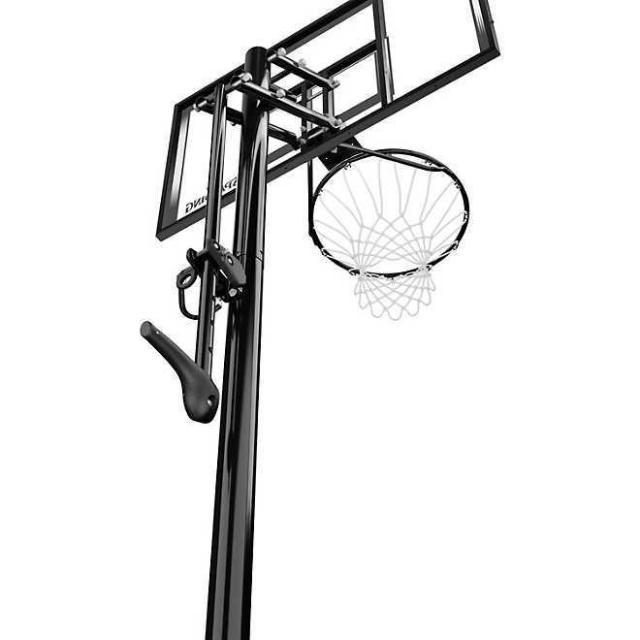hoop: (311, 148, 470, 321)
